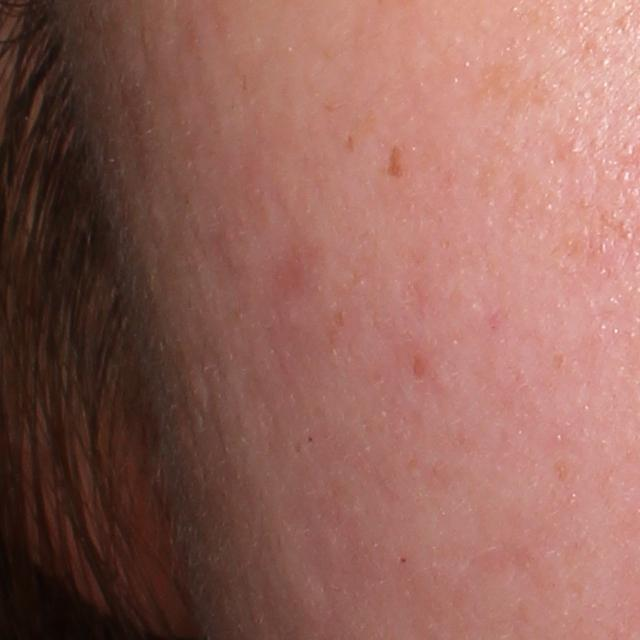melasma: (379, 137, 410, 188)
